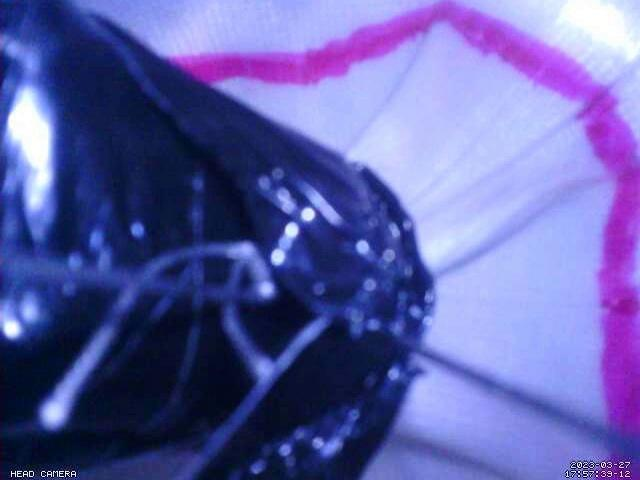red-circle: (166, 0, 640, 480)
